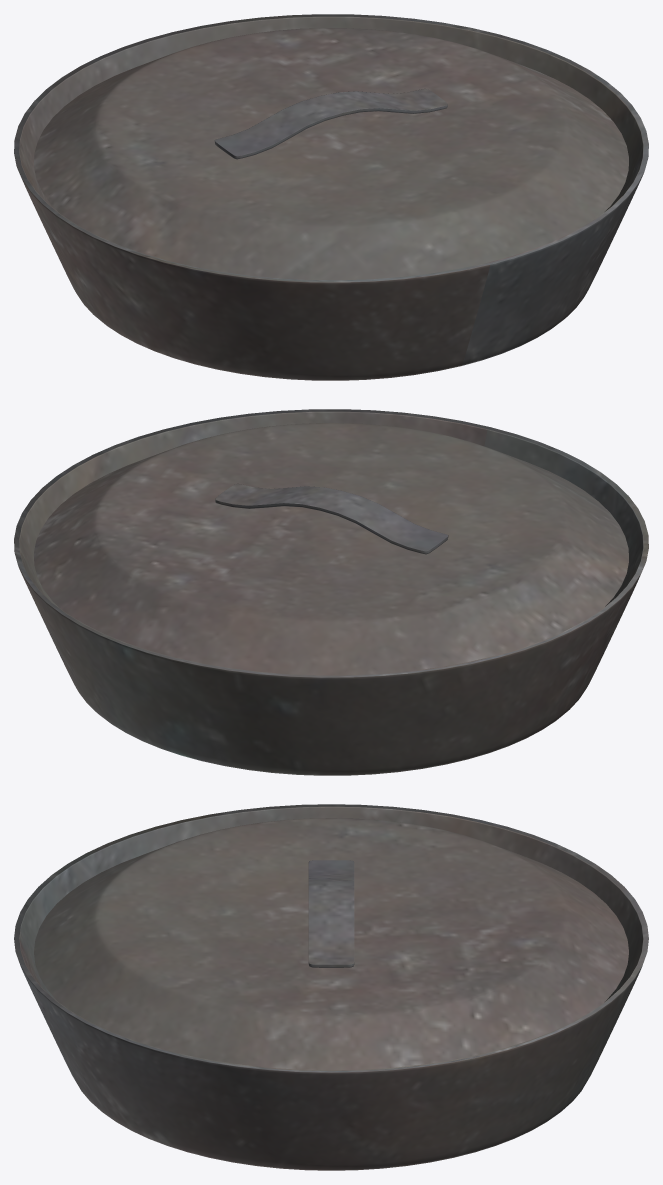
File: SM_Pot.fbx
The picture shows the model from 3 angles, top to bottom: view 1: azimuth 30°, elevation 25°; view 2: azimuth 150°, elevation 25°; view 3: azimuth 270°, elevation 25°; orthographic projection.
Parts seen in each view (by area): view 1: SM_Pot_LOD0; view 2: SM_Pot_LOD0; view 3: SM_Pot_LOD0.
Part boxes in pixels (x1,y1,x2,y2): SM_Pot_LOD0: (14, 14, 648, 380); SM_Pot_LOD0: (14, 409, 648, 775); SM_Pot_LOD0: (14, 804, 648, 1170).
Bounding box in the file's own units: 62.58 × 62.58 × 18.2.
